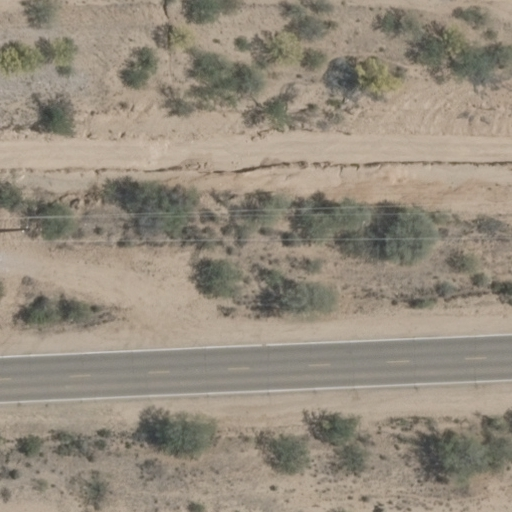DT: (2, 210, 38, 247)
